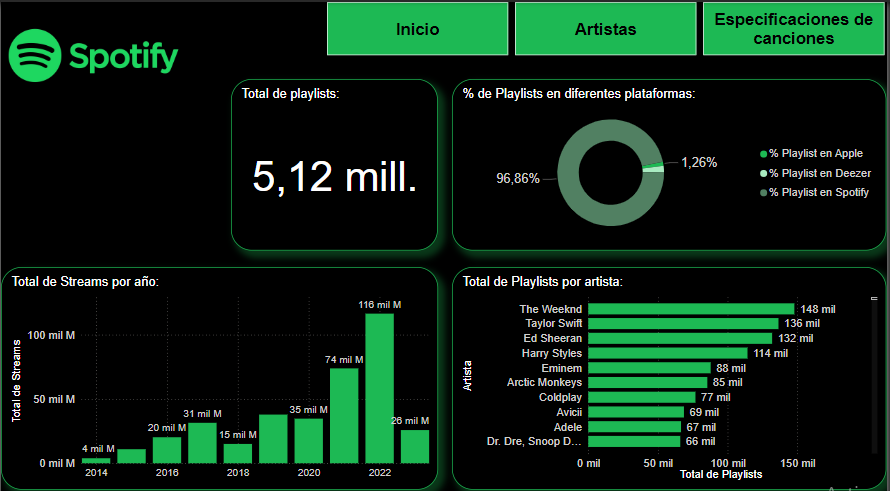

Layout of this report page (visuals, bound fields, positions):
{"tool":"powerbi","page":{"name":"Información sobre Playlists","canvas":[1280,720],"ordinal":3},"visuals":[{"type":"card","fields":{"Values":["Metricas.TotalPlaylistsAcrossPlatforms"]},"box":[333.1,112,299.1,248],"z":0},{"type":"donutChart","title":"% de Playlists en diferentes plataformas","fields":{"Y":["Metricas.PercentageStreamsApple","Metricas.PercentageStreamsDeezer","Metricas.PercentageStreamsSpotify"]},"box":[652,112,627.9,248],"z":1000},{"type":"columnChart","title":"Total de Streams por año","fields":{"Category":["Date.Date.Variación.Jerarquía de fechas.Año"],"Y":["Sum(Chart.streams)"]},"box":[0,382.7,632.1,321.7],"z":2000},{"type":"barChart","title":"Total de Playlists por artista","fields":{"Y":["Metricas.TotalPlaylistsAcrossPlatforms"],"Category":["Artists.artists_name"]},"box":[652,382.7,627.9,321.7],"z":3000},{"type":"image","box":[0,0,267.4,155.5],"z":4000},{"type":"pageNavigator","box":[471.9,0,808.1,77.8],"z":5000}]}

Visuals, with their boxes in screenshot pixels (x1, y1, x2, y2), scaled from the page's 1280x720 canvas onto the 890x491 screenshot:
card - Metricas.TotalPlaylistsAcrossPlatforms: (232, 76, 440, 246)
"% de Playlists en diferentes plataformas" donutChart: (453, 76, 889, 246)
"Total de Streams por año" columnChart: (0, 261, 440, 480)
"Total de Playlists por artista" barChart: (453, 261, 889, 480)
image: (0, 0, 186, 106)
pageNavigator: (328, 0, 889, 53)
